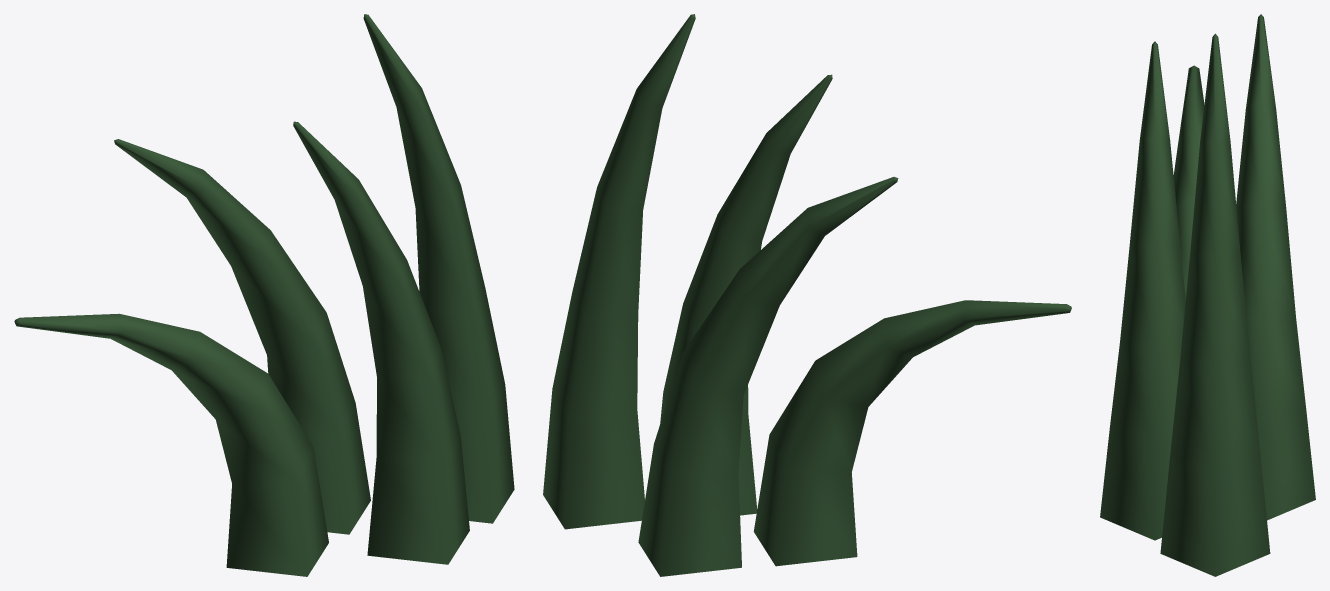
File: grass-batch-1.fbx
3 renders of one model, left to right at view 1: azimuth 30°, elevation 25°; view 2: azimuth 150°, elevation 25°; view 3: azimuth 270°, elevation 25°, orthographic. The views are drawn at different scales.
Visible parts, largest first — view 1: GrassBatch_Cylinder_Cylinder.001; view 2: GrassBatch_Cylinder_Cylinder.001; view 3: GrassBatch_Cylinder_Cylinder.001.
Part boxes in pixels (x1,y1,x2,y2): GrassBatch_Cylinder_Cylinder.001: (14,14,514,576); GrassBatch_Cylinder_Cylinder.001: (543,14,1071,576); GrassBatch_Cylinder_Cylinder.001: (1100,14,1315,576).
Bounding box in the file's own units: 39.91 × 38.18 × 15.72.
